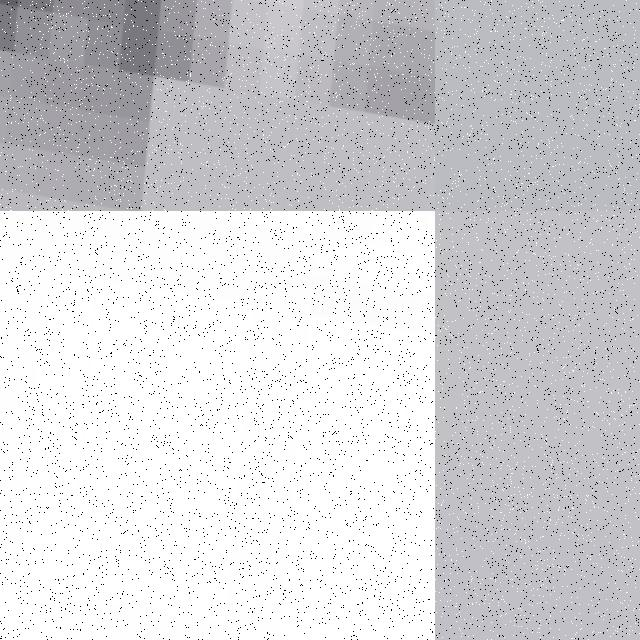drone: (0, 211, 435, 640), (0, 0, 435, 211)
